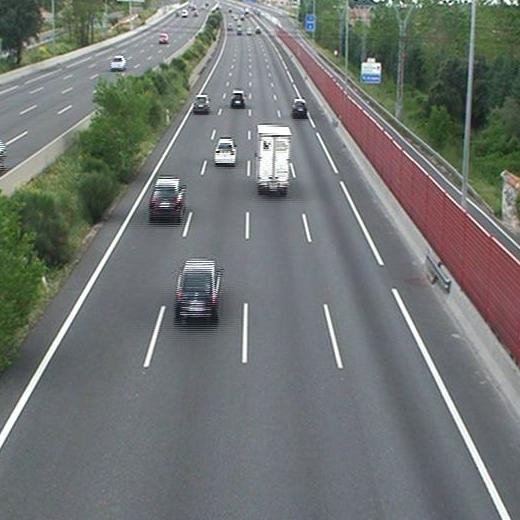car: (177, 261, 219, 316), (151, 178, 183, 220), (215, 138, 236, 161), (193, 95, 210, 113), (291, 99, 307, 118), (230, 91, 246, 108)
small-truck: (255, 124, 291, 192)
